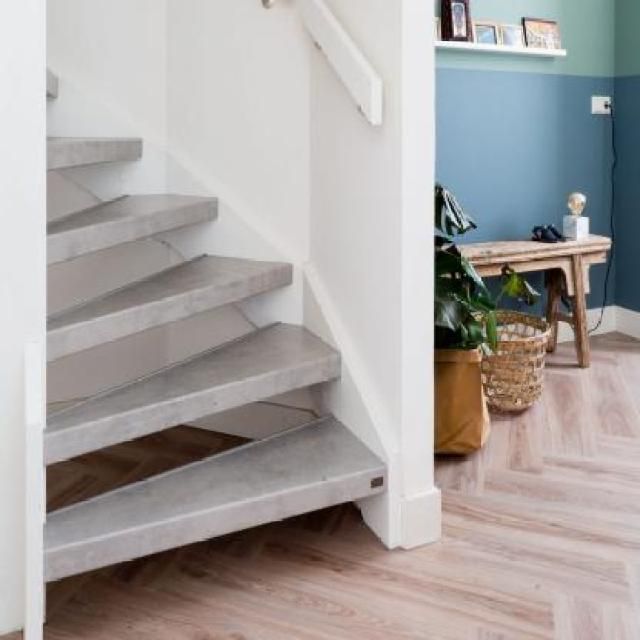stair: (0, 21, 423, 594)
